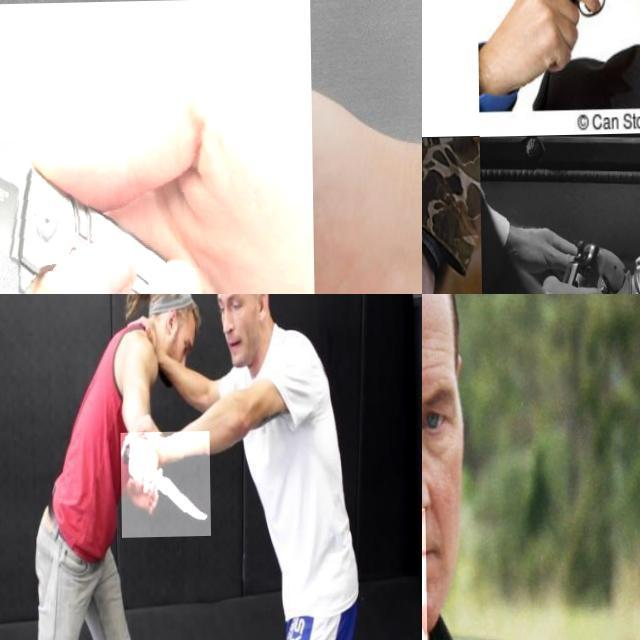-: (0, 0, 315, 294), (120, 432, 210, 539)
gun-knife-thesis - v11 Yolov5 augmented: (422, 0, 503, 99), (422, 509, 475, 640), (541, 0, 637, 58), (540, 236, 628, 294)
